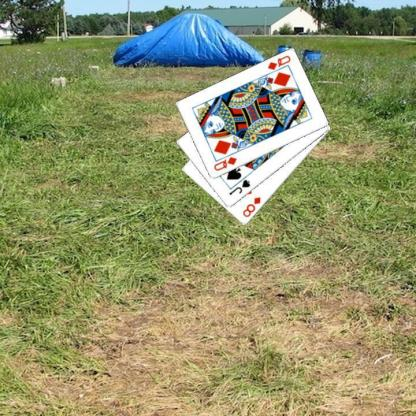8D: (240, 194, 262, 219)
JS: (226, 177, 251, 196)
QD: (264, 53, 292, 72), (211, 154, 238, 172)
